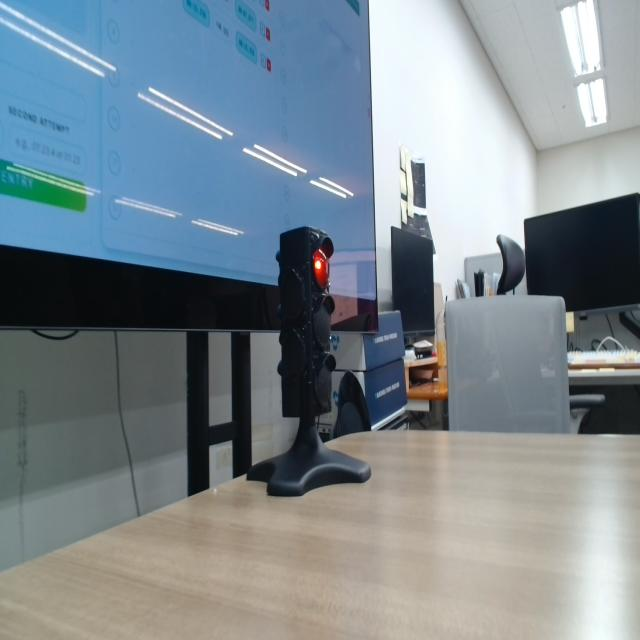red_light: (314, 249, 329, 289)
